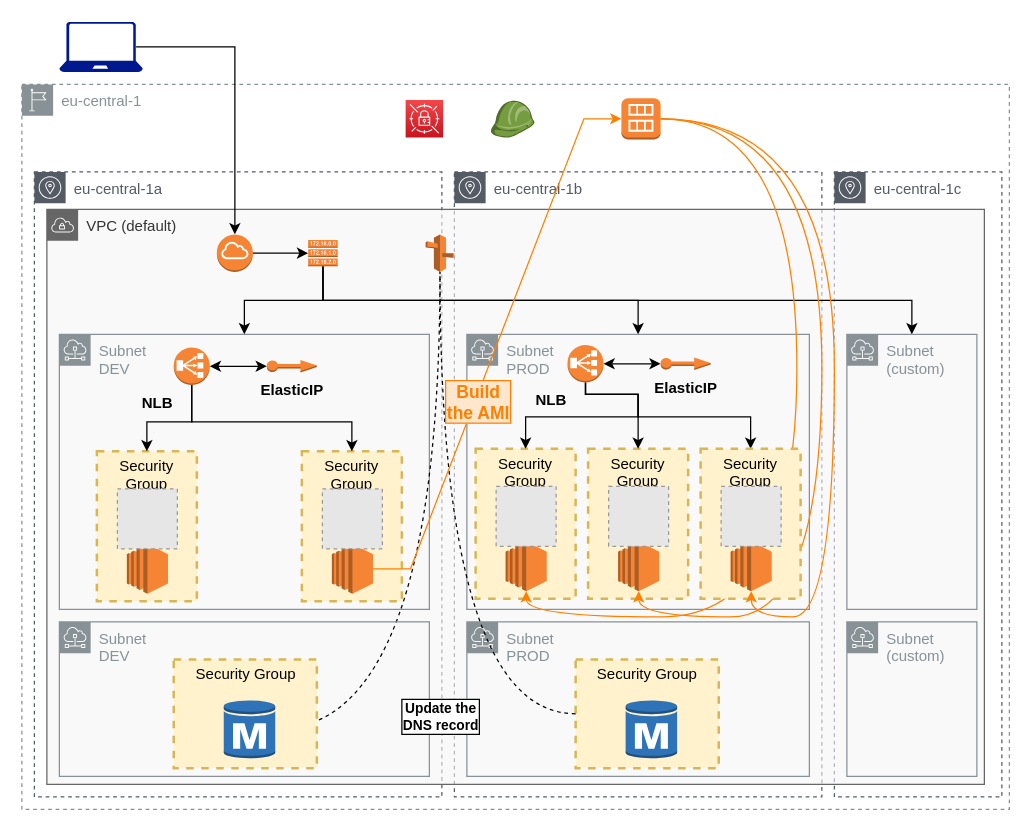
The diagram is 1031 pixels wide and 831 high, and some of its shapes have lost their labels. Grey dashed boxes stand in for pictures. The centre of each missing label's shape, as x and y in pixels:
"AMI" goes at pixel 640 118.
"db secrets" goes at pixel 423 118.
"IAM role" goes at pixel 511 118.
"Internet gateway" goes at pixel 234 252.
"Route 53" goes at pixel 439 252.
"Route table public" goes at pixel 322 252.
